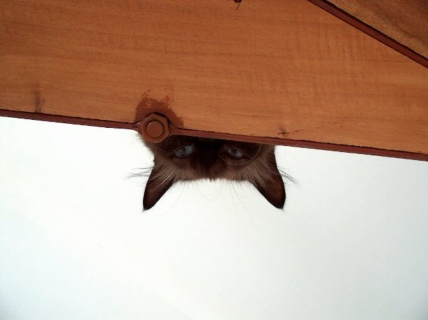Cat: (124, 131, 302, 216)
